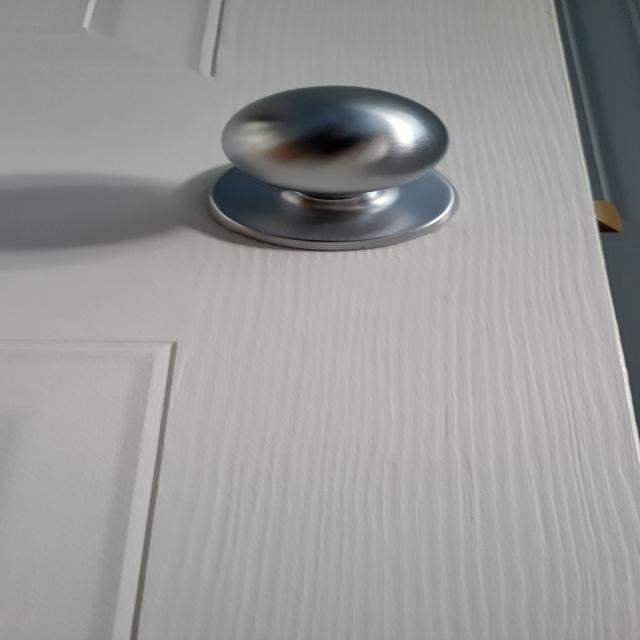door-knob: (208, 86, 457, 250)
